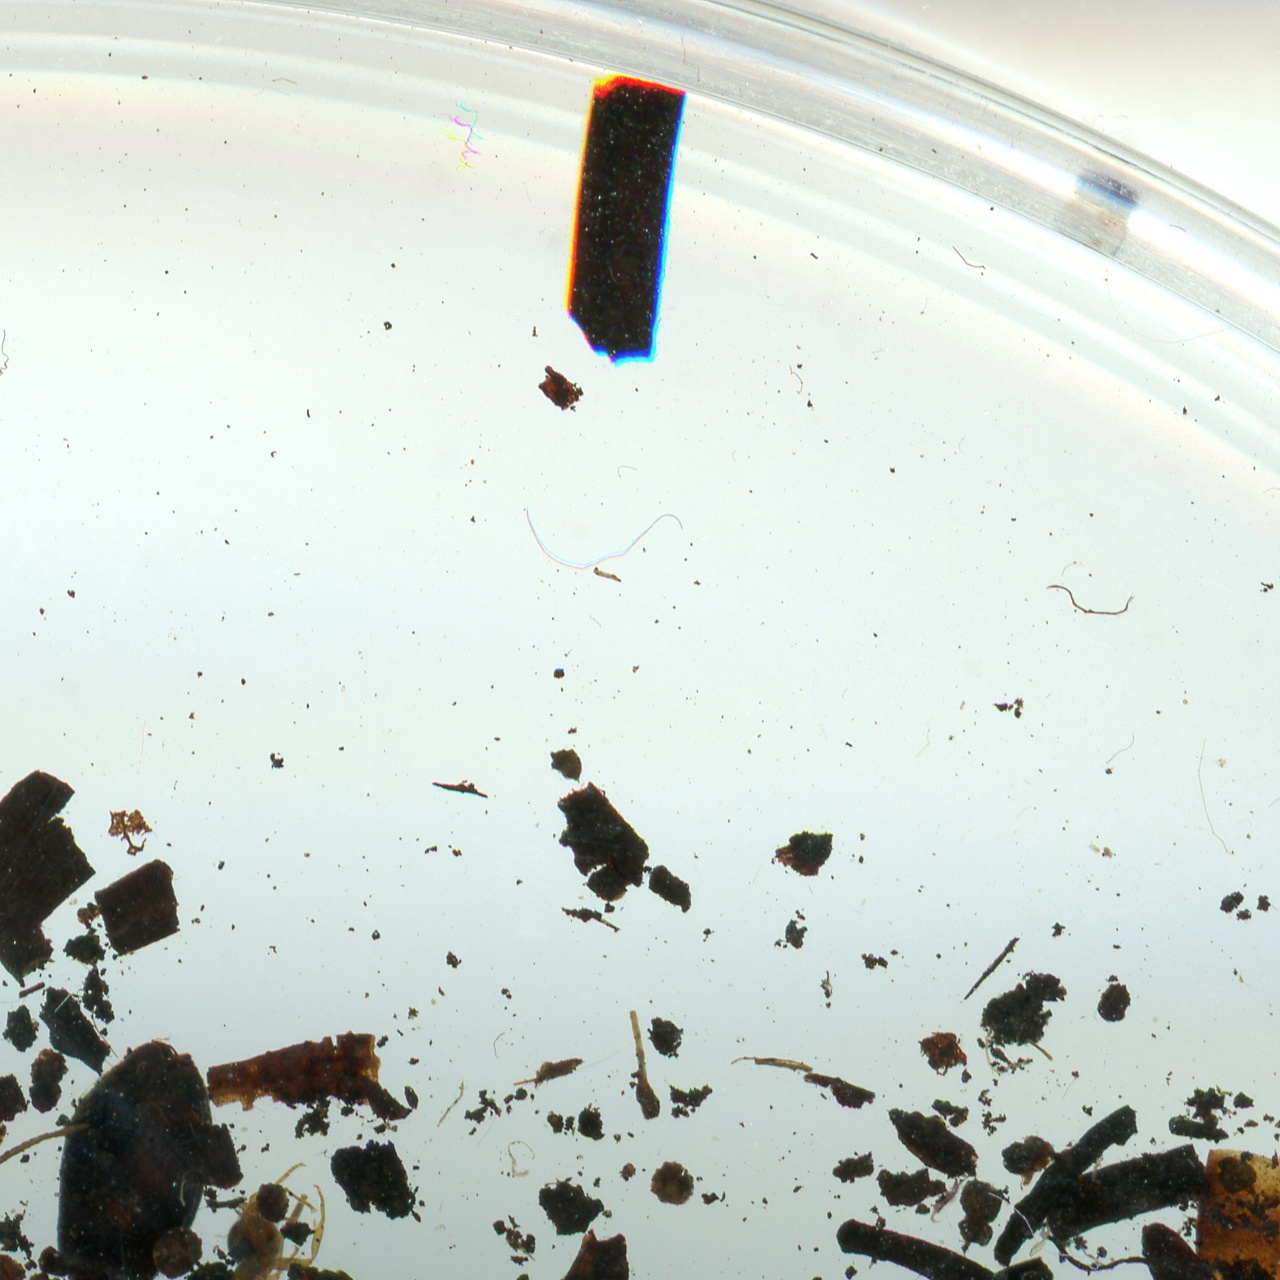arthropod: (192, 1162, 335, 1280)
